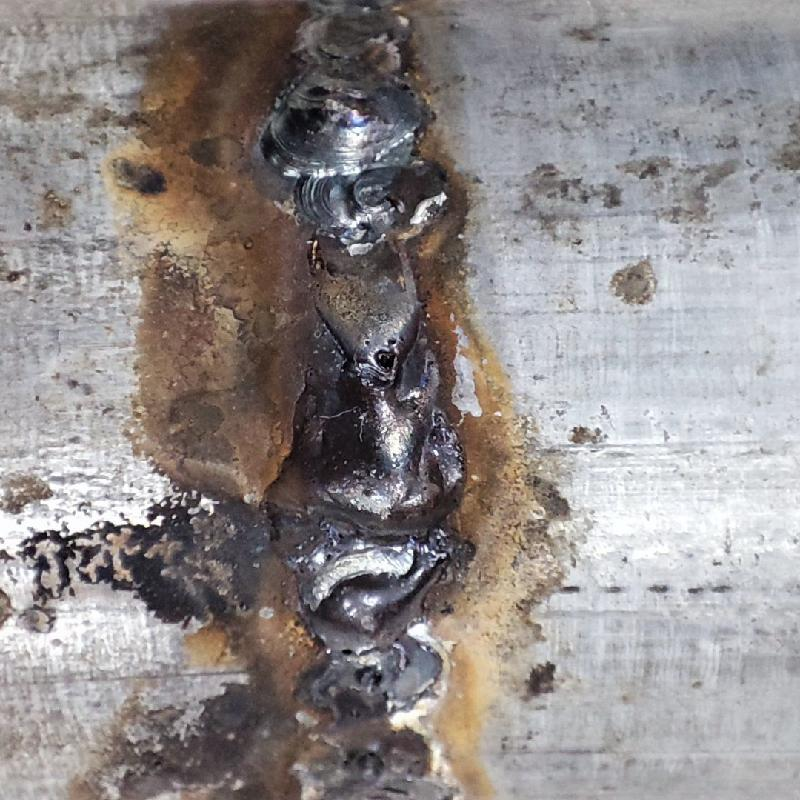Not_fully_soldered: (287, 170, 439, 384)
Surface_pores: (354, 330, 413, 378), (327, 635, 363, 672)
Weld: (270, 381, 468, 658)
wrong_size: (258, 0, 433, 170)
